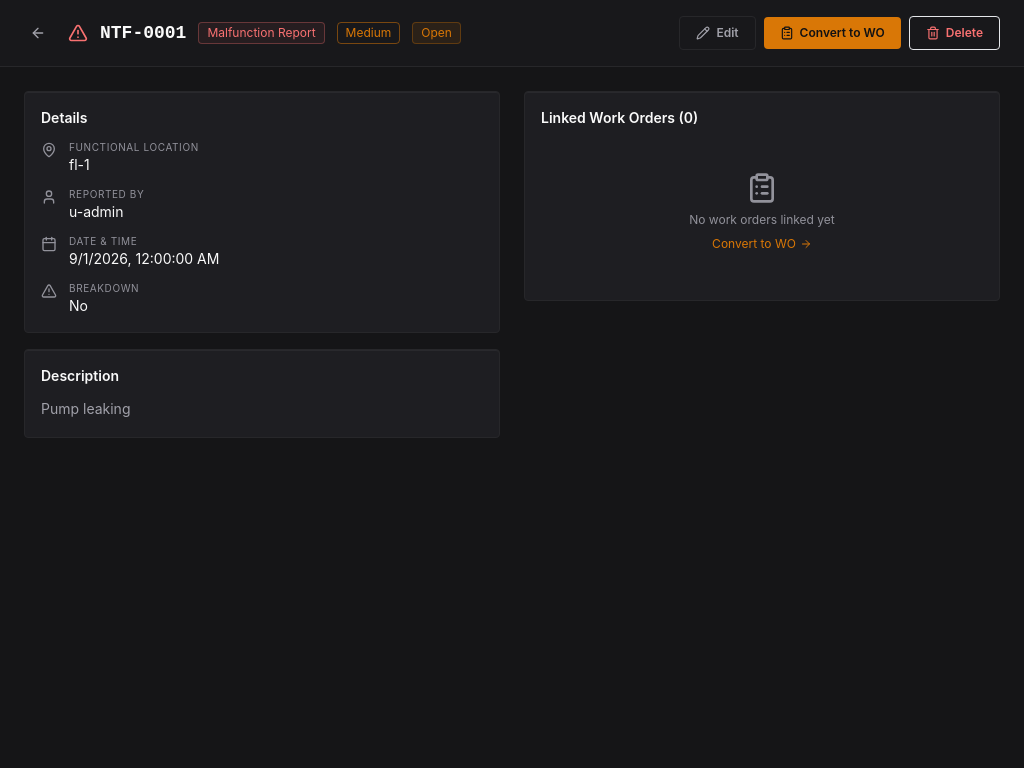
Test: NotificationDetailPage edit (G9) › edits a notification through notificationService.update and reloads
The width and height of the screenshot is (1024, 768).
Click the button "Edit" at (718, 33), box [680,16,756,50]
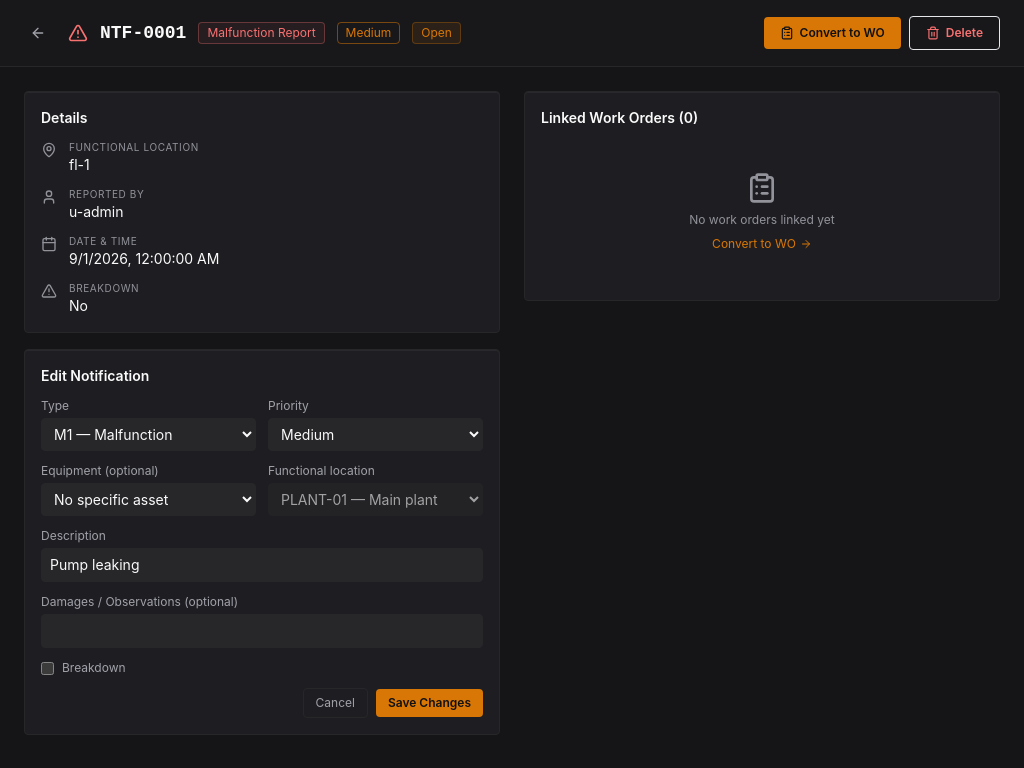
Now the field named "Notification description" holds "Pump leaking"
Replace the text in the field named "Notification description" with "Pump leaking badly" at (262, 565), box [41,548,483,582]
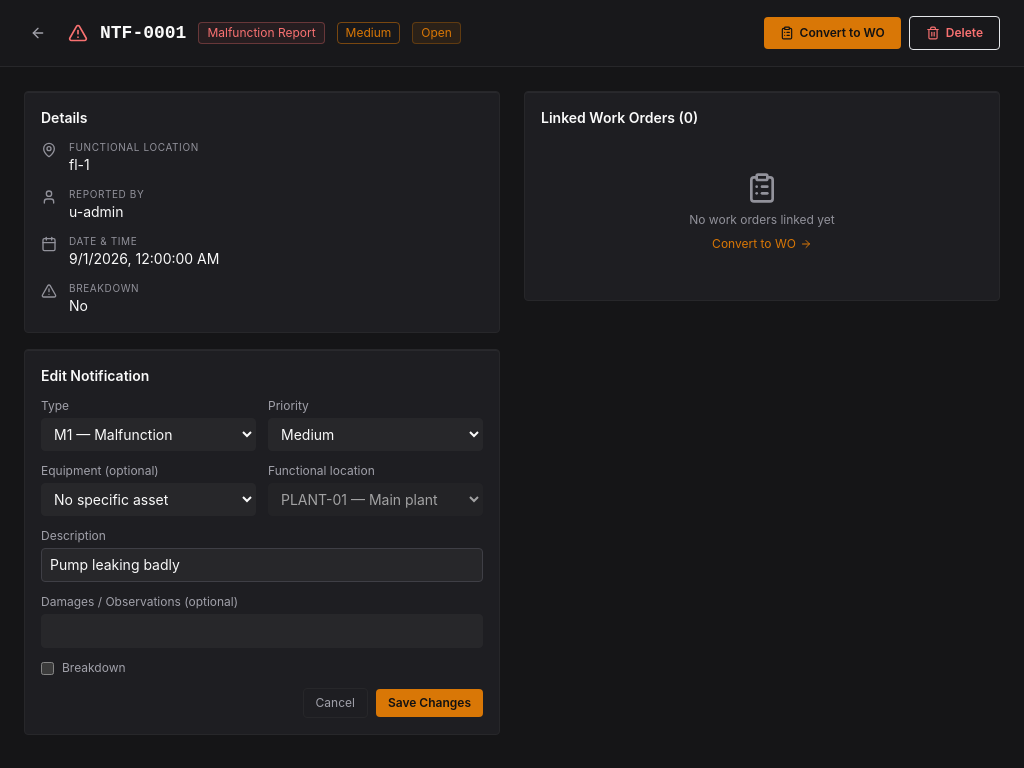
Click the button "Save Changes" at (429, 703), box [376,689,483,717]
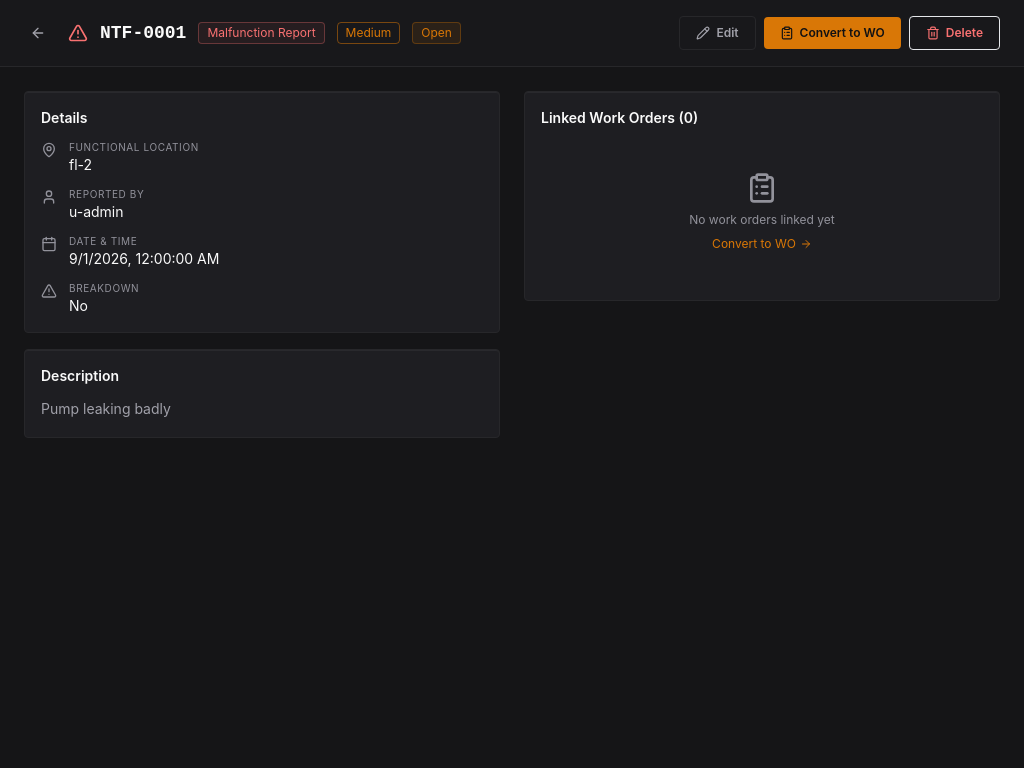
Now the text "Pump leaking badly" is shown, box [41,400,171,417]
